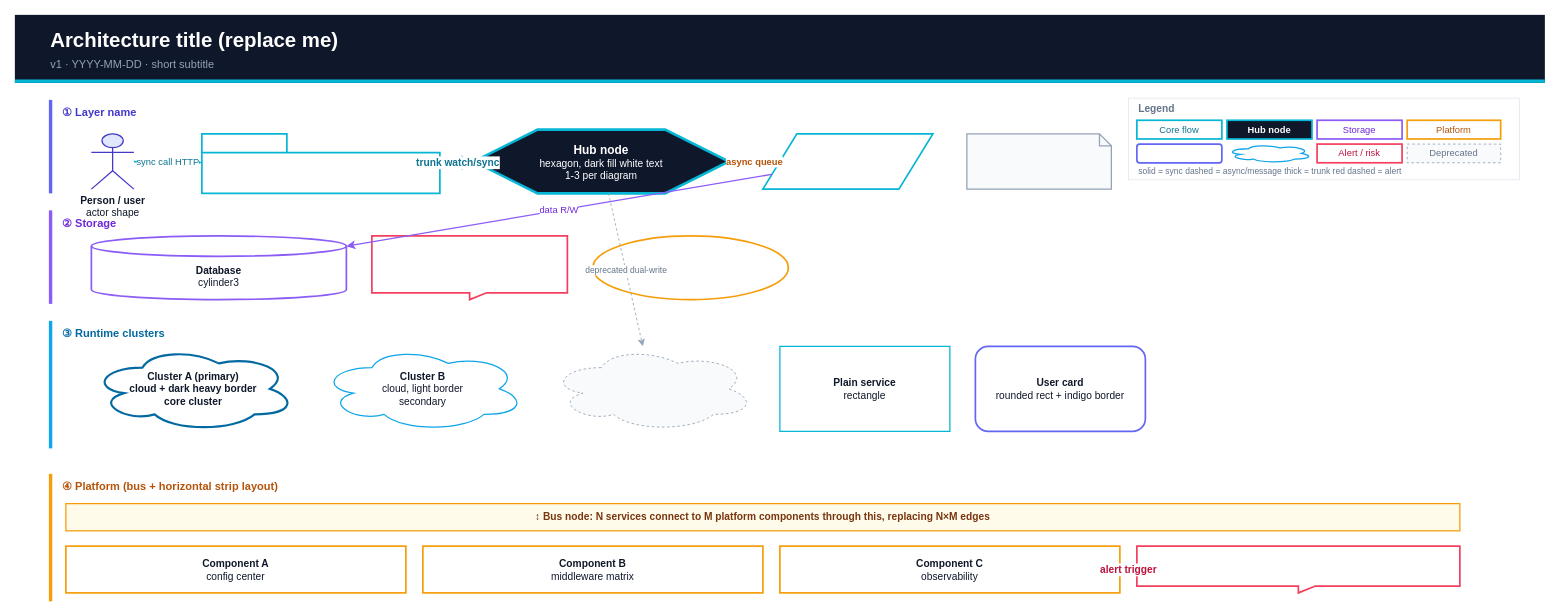
Some shapes in this 1559 by 615 pixel diagram are drawn without their labels. Here are the shapes that lost their labels. From the top down, the centre of each, then its label:
the point at 320,163: Code repo folder with tab
the point at 847,161: Script parallelogram
the point at 1039,161: Note dog-ear note
the point at 1179,153: User / entry
the point at 1269,153: Cluster
the point at 469,267: Alert callout bubble
the point at 690,267: Service mesh ellipse
the point at 652,388: Cluster C (deprecated) dashed + gray + "deprecated" text
the point at 1298,569: Alert push metrics → chat/webhook
